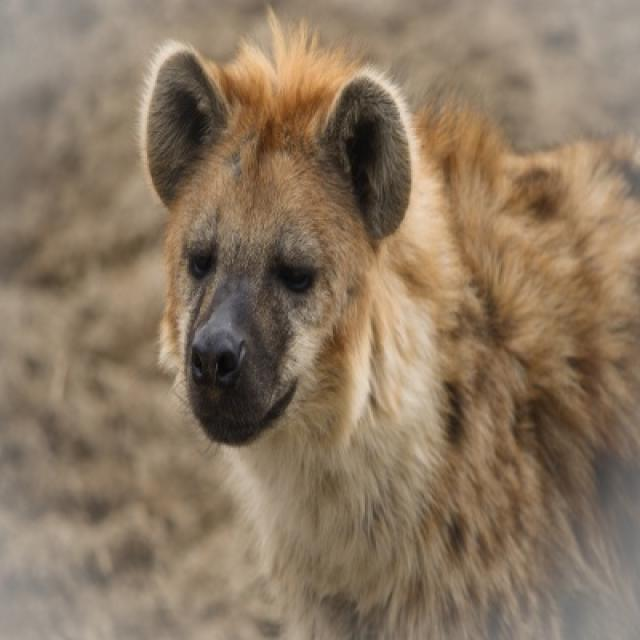hyena: (136, 21, 638, 638)
